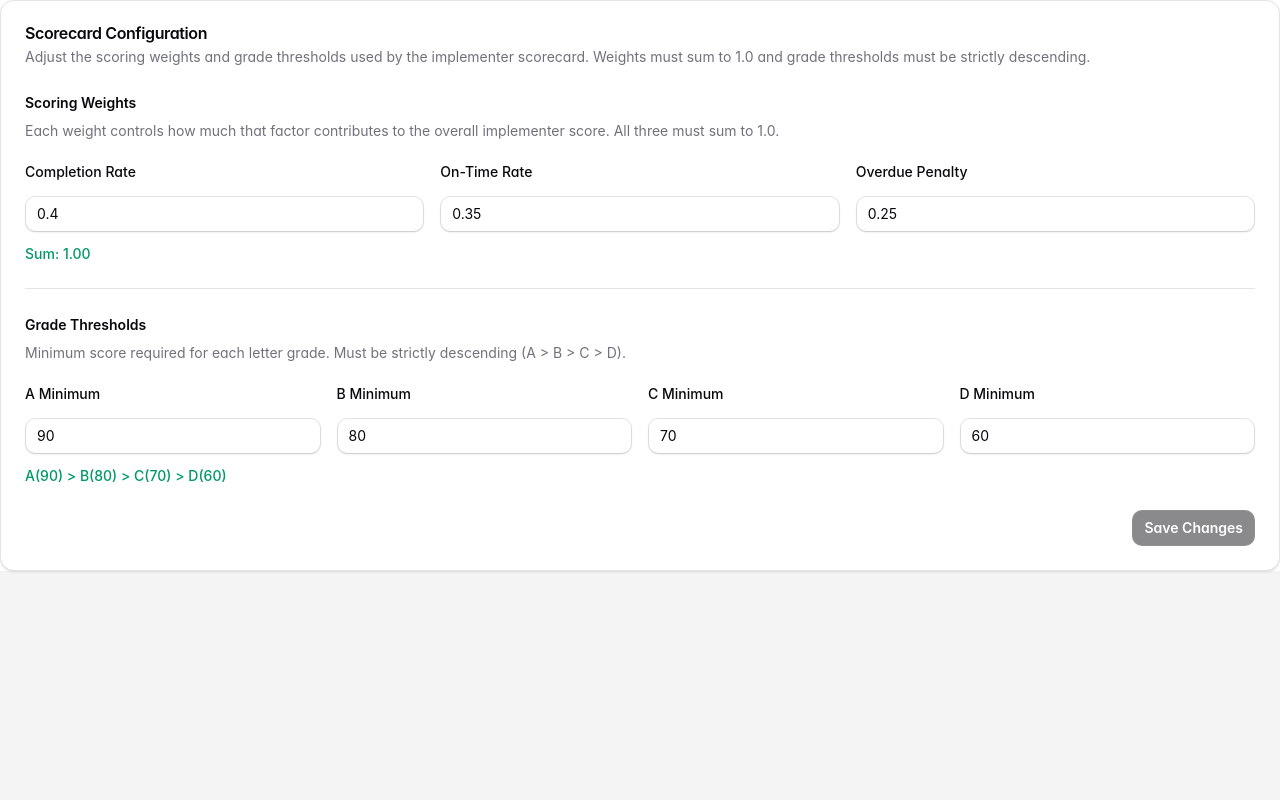
Test: ScorecardConfigSection › submits only changed fields and shows success snackbar
Expected: the text "Scoring Weights" is shown, [25,94,136,111]
Replace the text in the number field labelled "Completion Rate" with "0.45" at coordinates (225, 214), box [25,196,424,232]
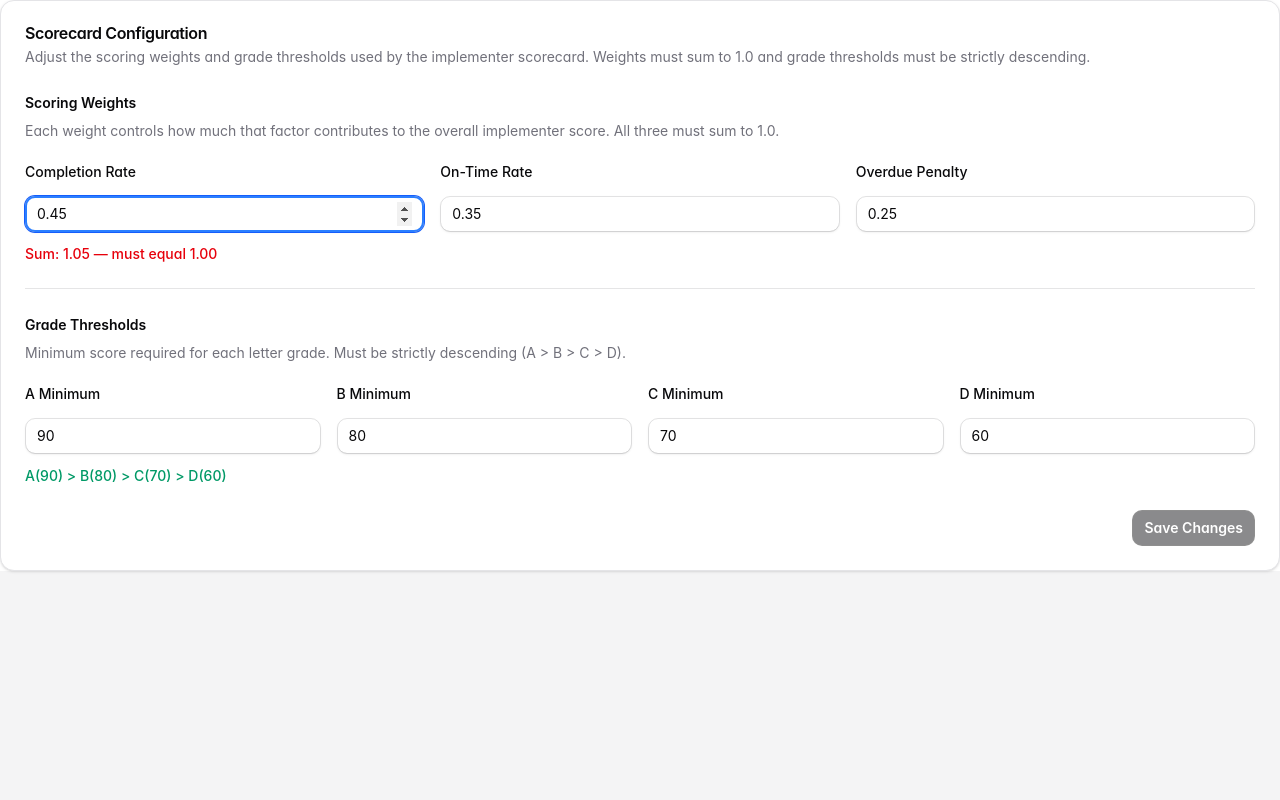
Replace the text in the number field labelled "On-Time Rate" with "0.3" at coordinates (640, 214), box [440,196,840,232]
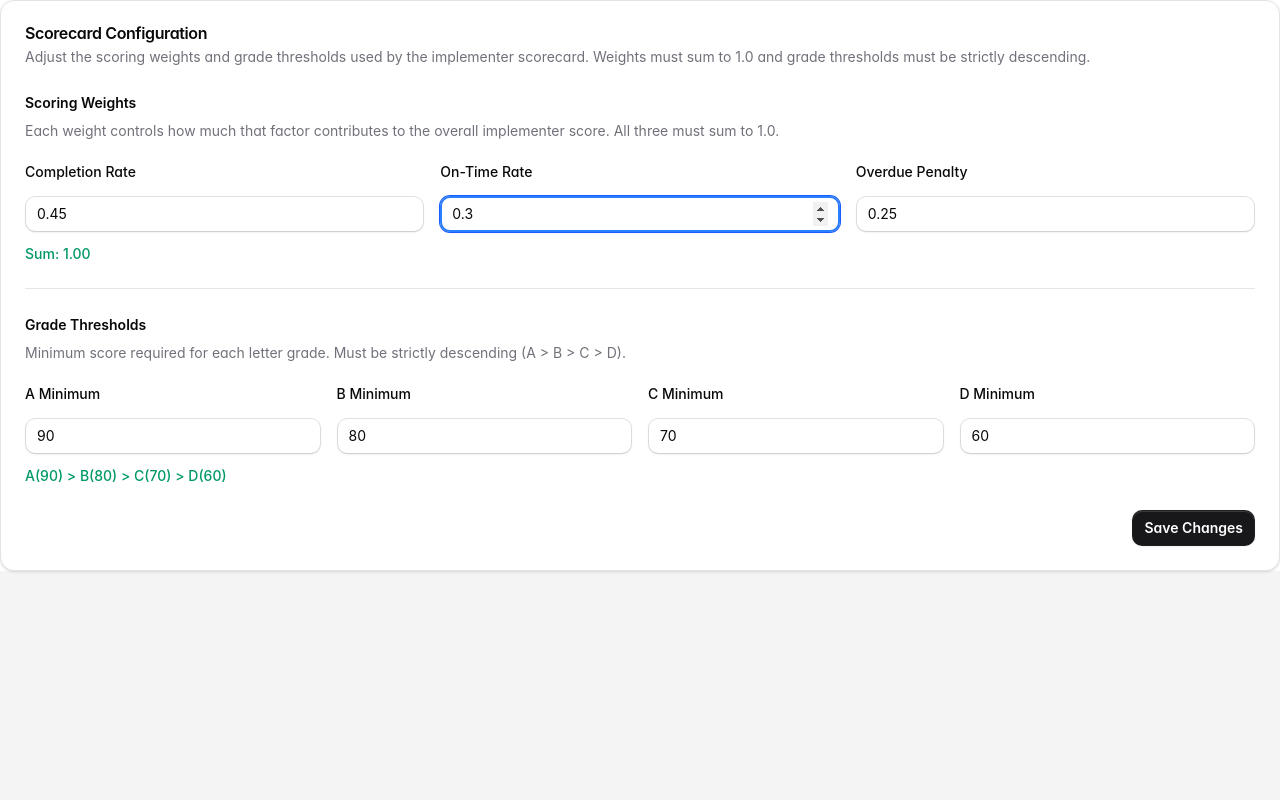
Now the button "Save Changes" is enabled
Click the button "Save Changes".
click(1194, 528)  # box [1132,510,1255,546]
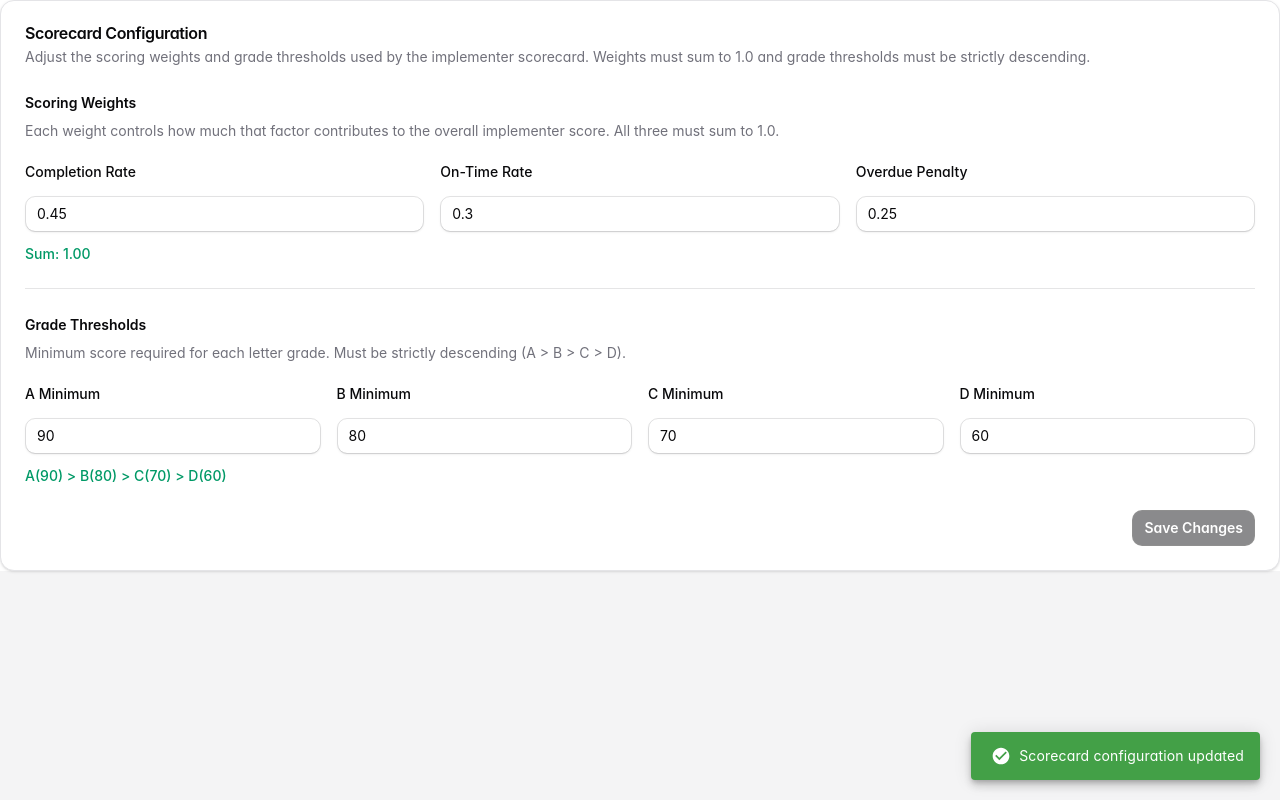
Now the text "Scorecard configuration updated" is shown, box [991,746,1244,766]
